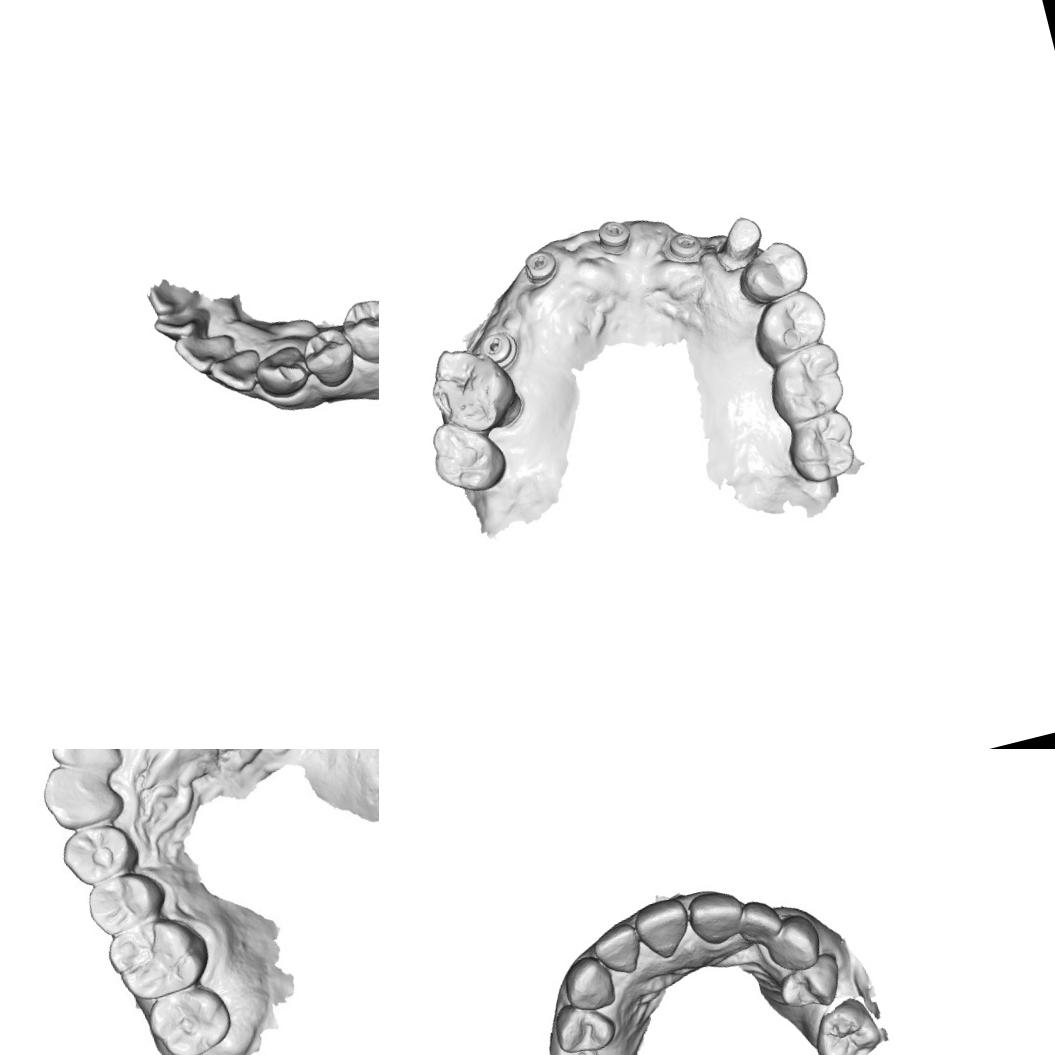canine: (32, 750, 130, 838), (757, 908, 826, 977), (554, 950, 620, 1018), (250, 341, 313, 403)
crown: (712, 210, 768, 270)
implant_minus: (475, 324, 519, 369), (518, 243, 562, 287), (594, 216, 630, 254), (664, 227, 702, 263)
incisor: (629, 892, 698, 966), (682, 882, 750, 950), (586, 916, 650, 982), (170, 323, 241, 380), (205, 344, 268, 401), (148, 301, 214, 347), (732, 892, 787, 946), (40, 749, 125, 780)
molar: (99, 909, 217, 1007), (421, 338, 516, 439), (423, 408, 512, 500), (141, 975, 239, 1055), (763, 340, 850, 426), (781, 407, 863, 489), (804, 992, 885, 1055)
premolar: (79, 864, 168, 940), (746, 285, 832, 363), (56, 815, 144, 890), (732, 233, 813, 306), (771, 950, 846, 1016), (297, 322, 362, 394), (547, 995, 620, 1055), (336, 293, 379, 370)
